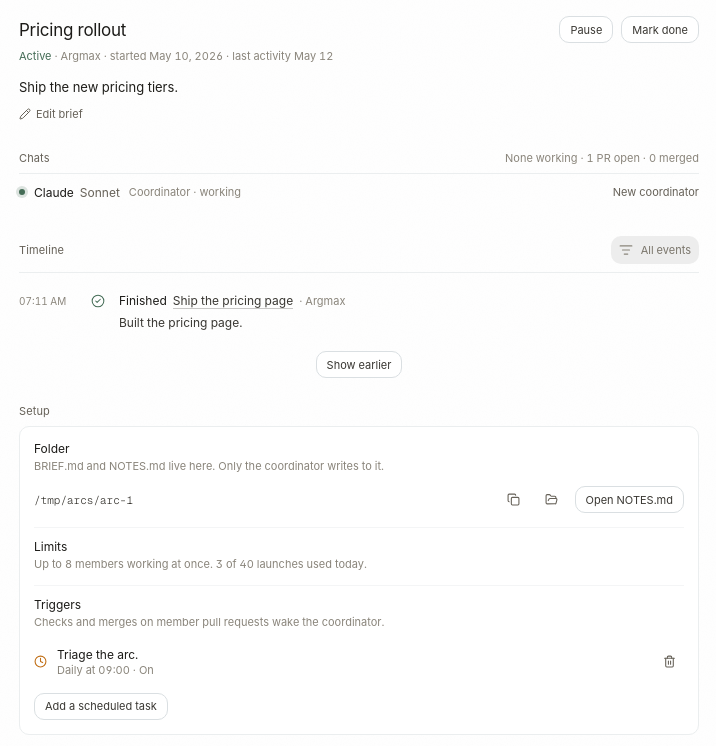
Test: ArcPage › loads earlier events from the cursor
Click the button "Show earlier": (359, 365) [316,351,402,378]
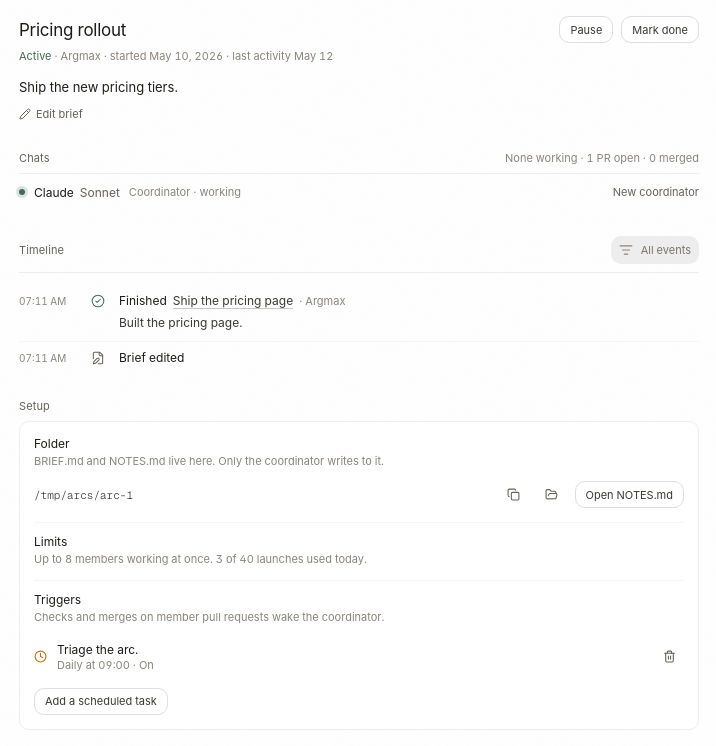
Result: the text "Brief edited" is shown at [119,349,184,366]
Result: the button "Show earlier" is gone
